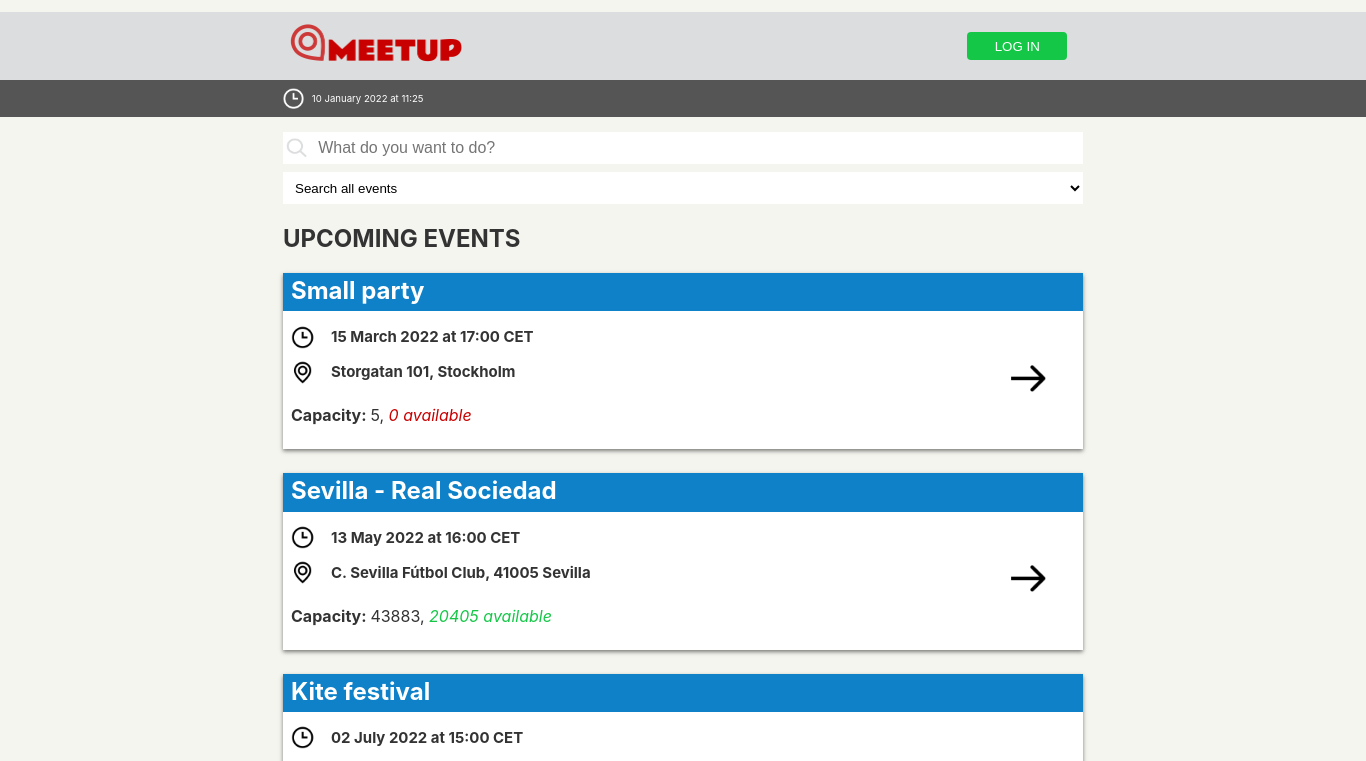
App integration tests › renders login button in header when log out button is clicked after logging in
The width and height of the screenshot is (1366, 761).
Click the button "Log in" at (1017, 46), box x1=967 y1=32 x2=1067 y2=60
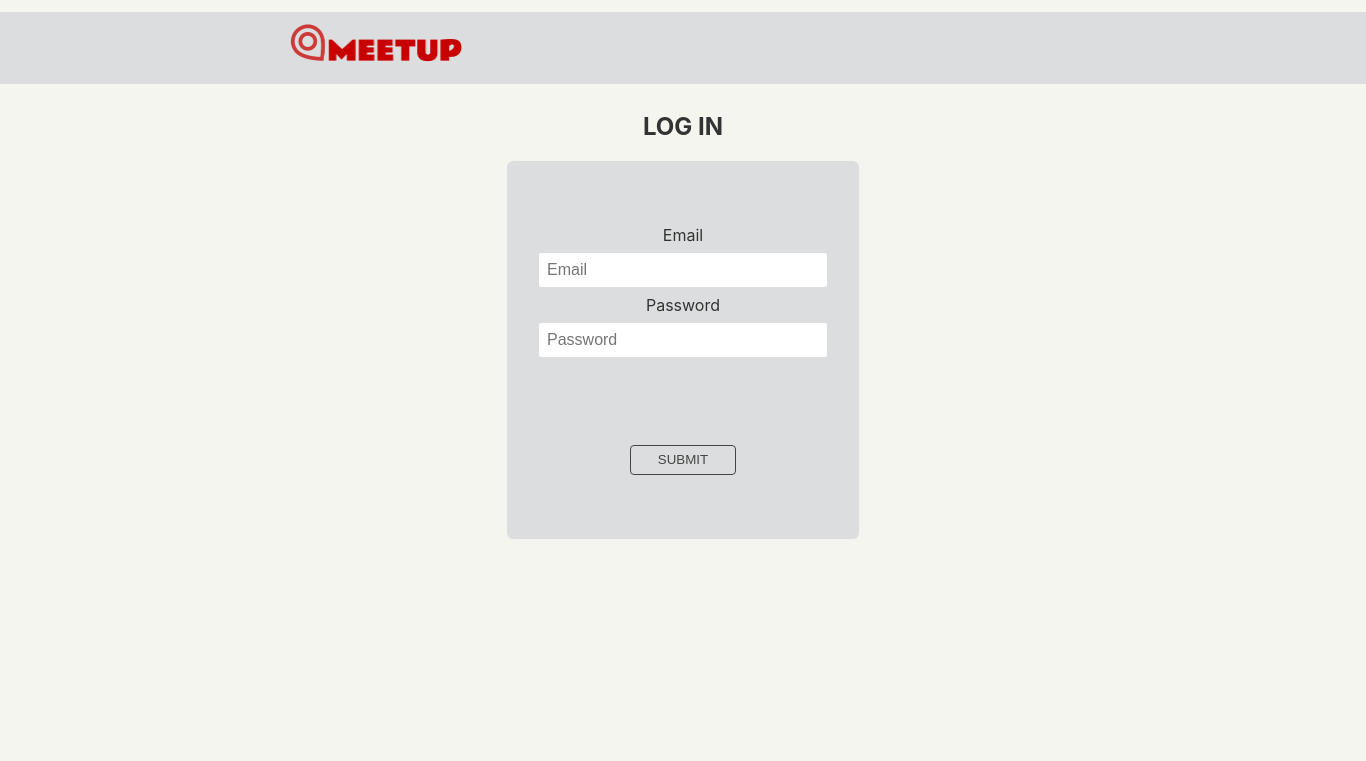
Type "tjalle@yahoo.com" into the field labelled "Email" at (683, 270), box x1=539 y1=253 x2=827 y2=287
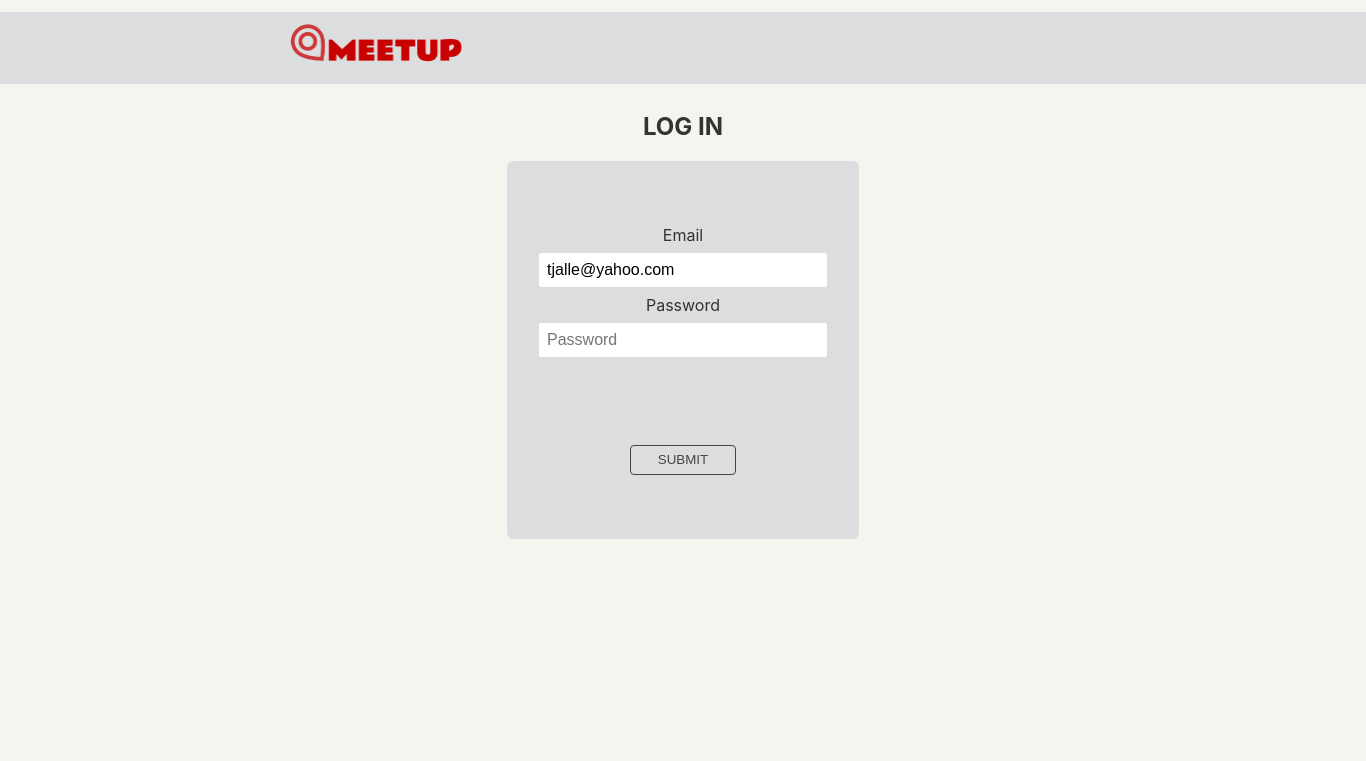
Type "grillkorv" into the password field labelled "Password" at (683, 340), box x1=539 y1=323 x2=827 y2=357
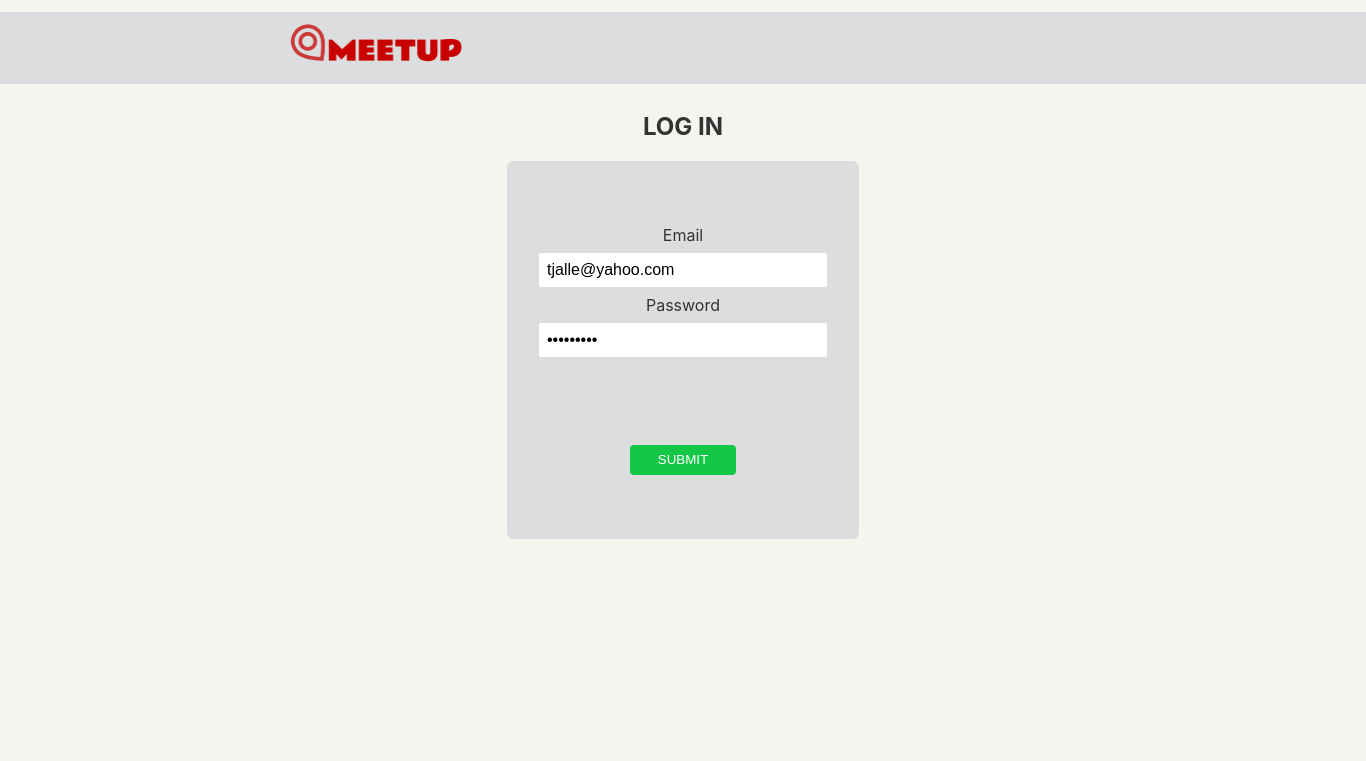
Click the button "Submit" at (683, 460), box x1=630 y1=445 x2=736 y2=475
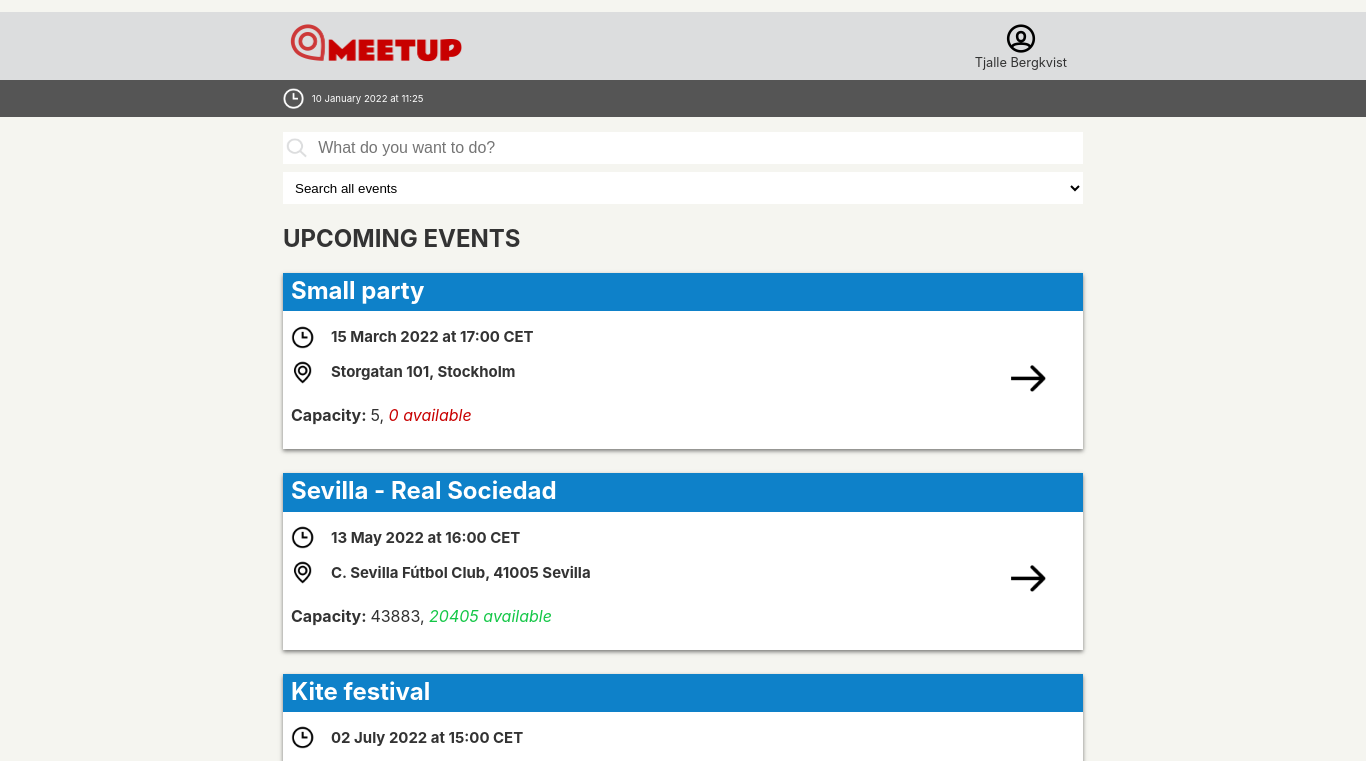
Click the text "Tjalle Bergkvist" at (1021, 62), box x1=975 y1=54 x2=1067 y2=70
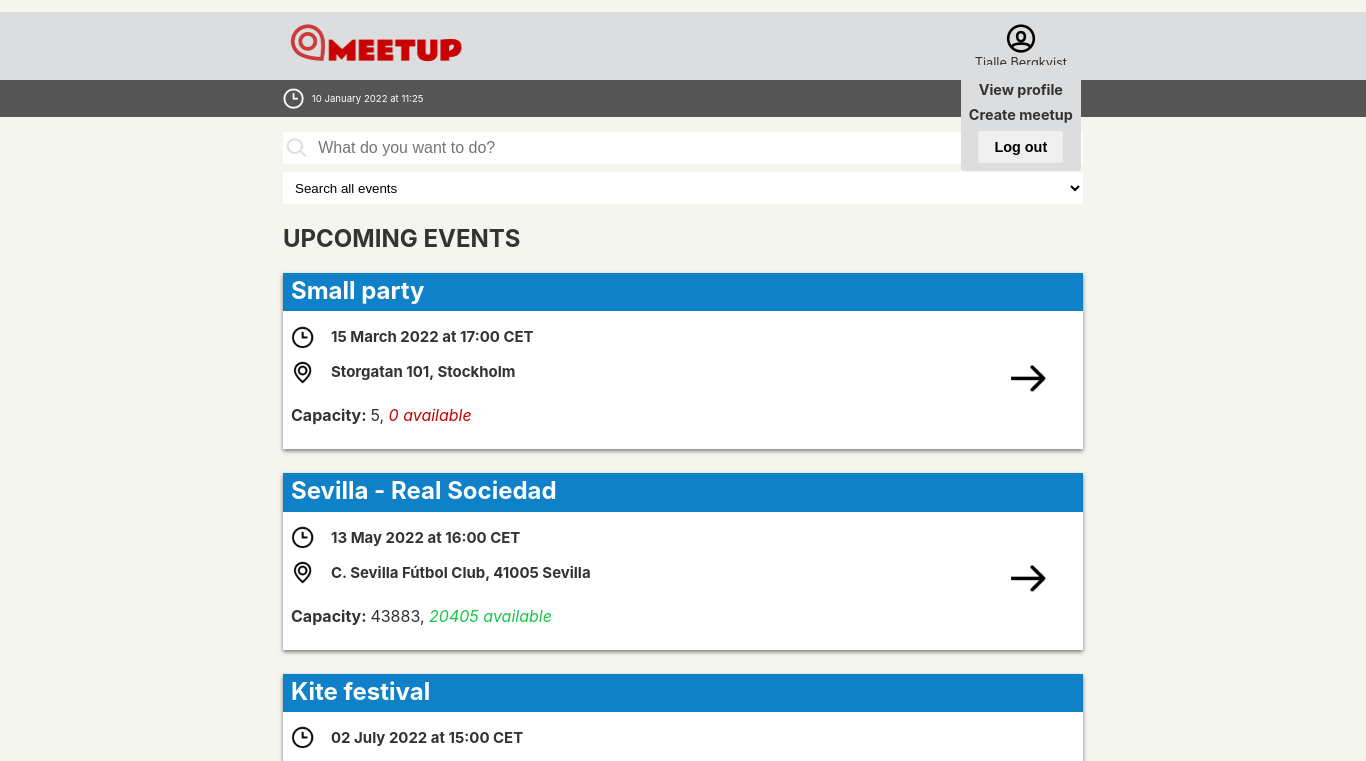
Click the button "Log out" at (1021, 147), box x1=978 y1=131 x2=1063 y2=163
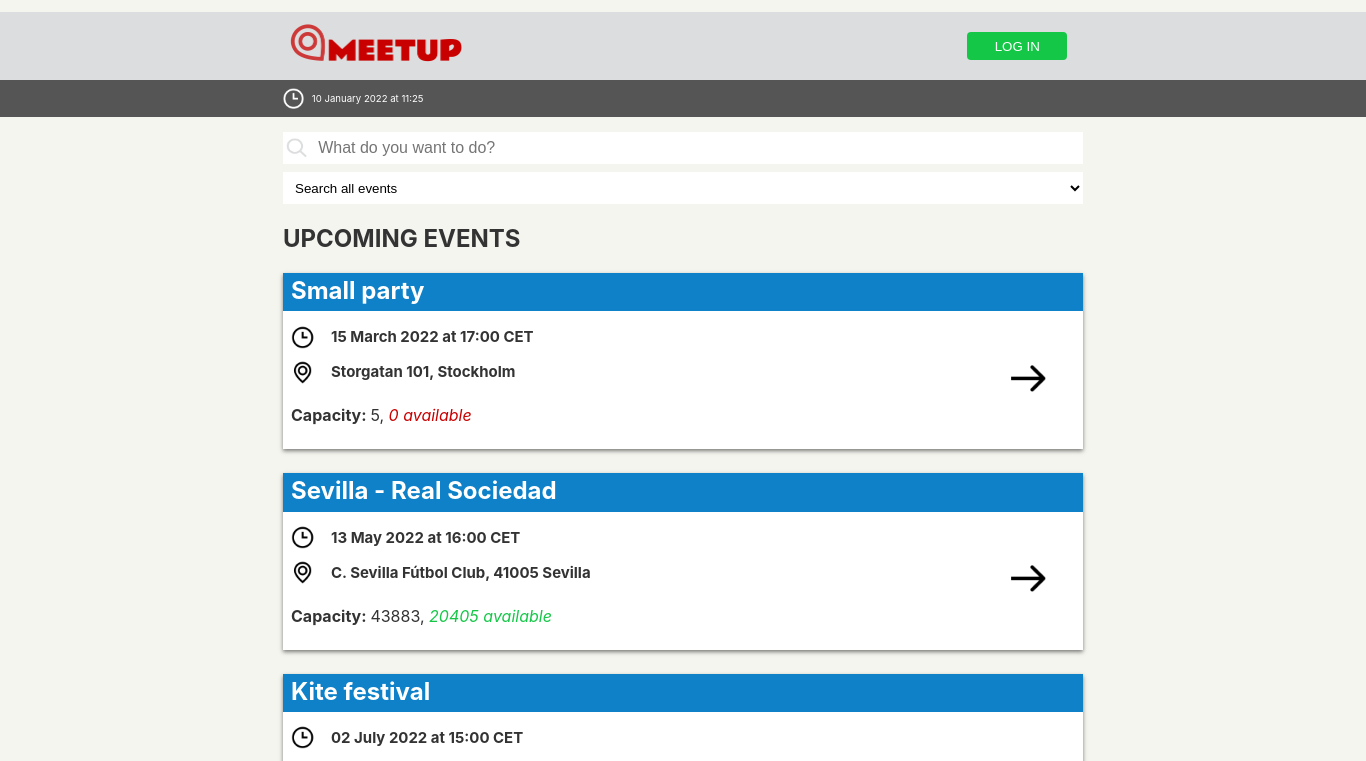
Check: the button "Log in" is shown, box x1=967 y1=32 x2=1067 y2=60
